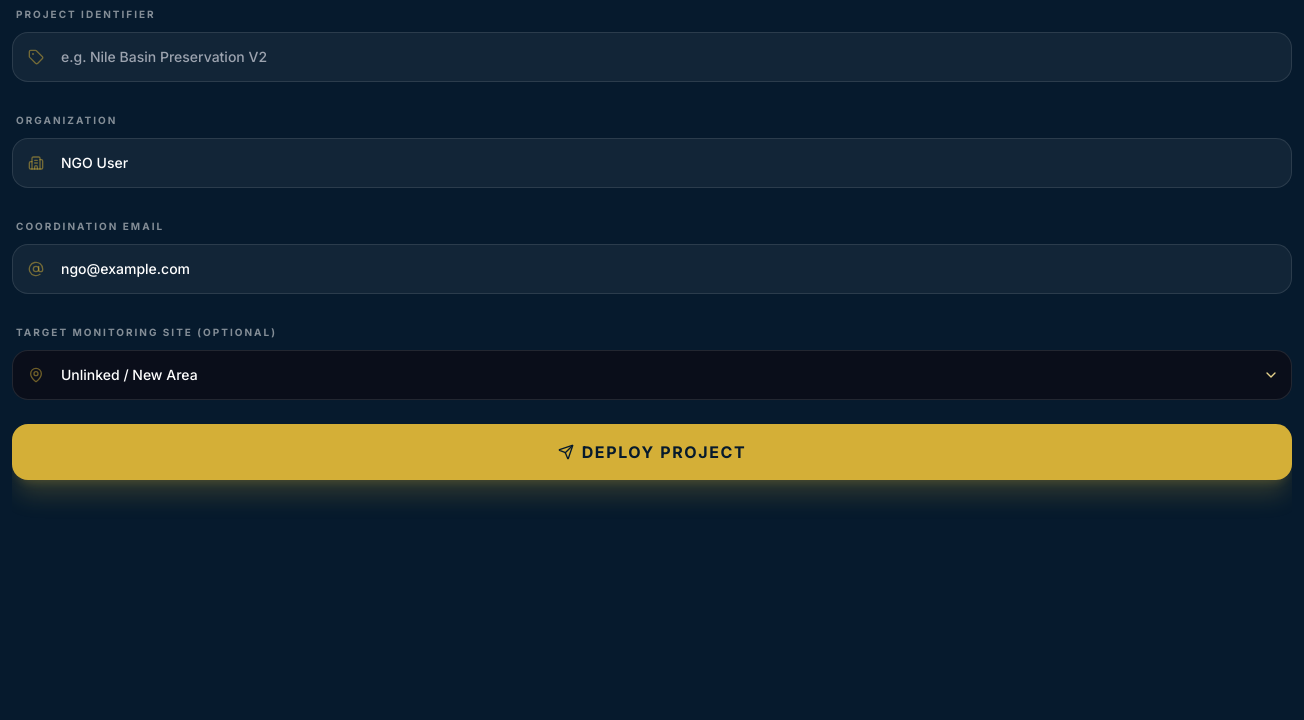
NGO Portal Components › SubmitCollaborationForm › shows validation errors and submits successfully
Type "New Test Project" into the field with placeholder "e.g. Nile Basin Preservation V2".
click(652, 57); type("New Test Project")  # box [12,32,1292,82]
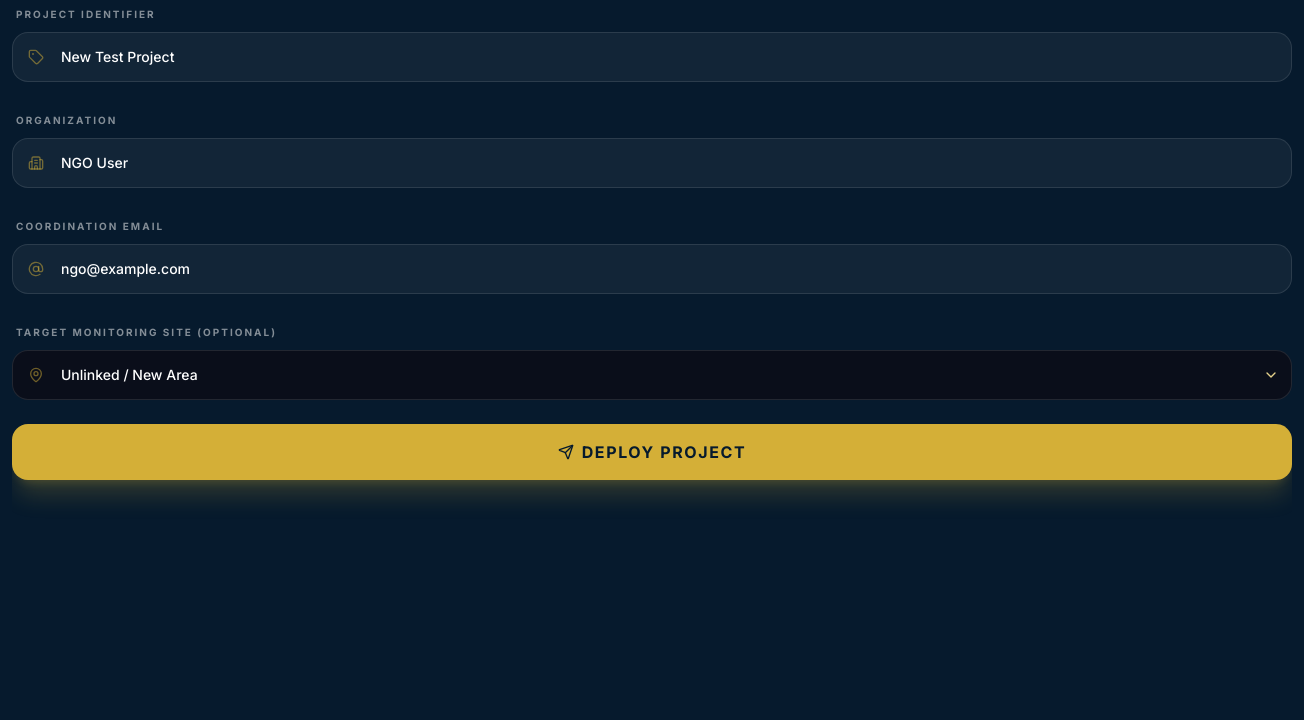
Click the button "Deploy Project".
click(652, 452)  # box [12,424,1292,480]
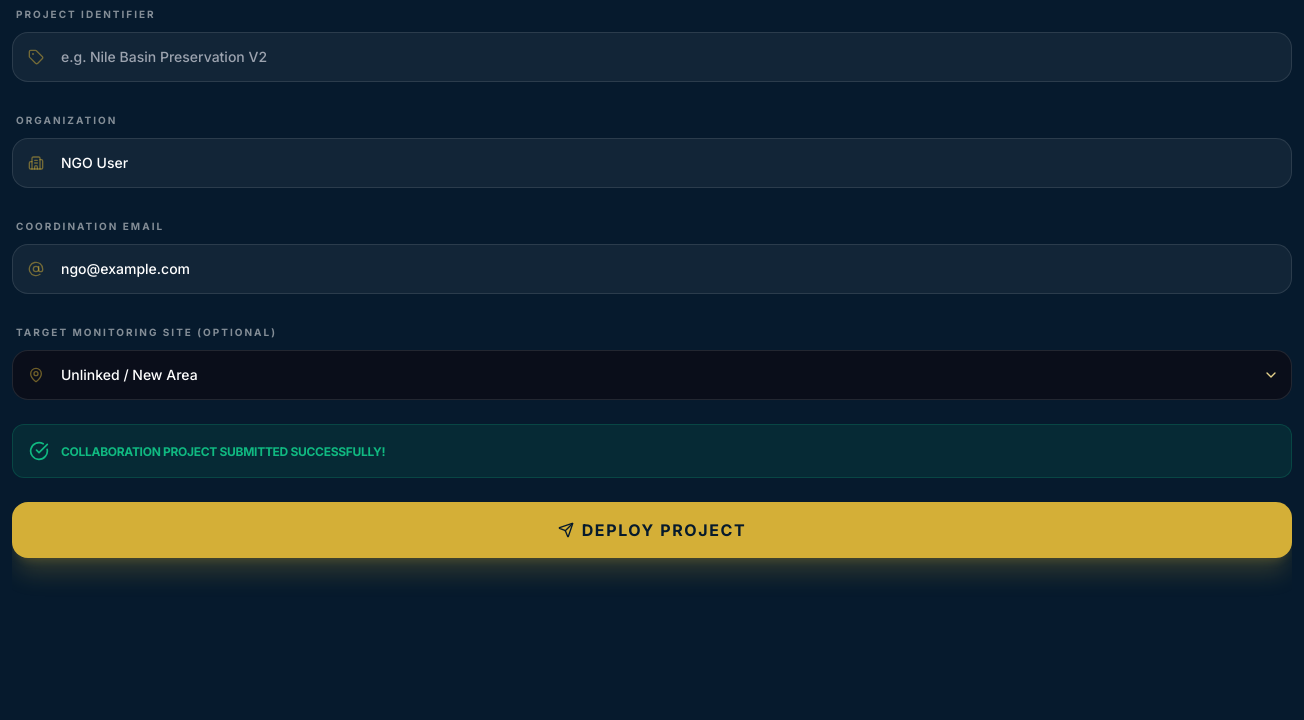
Check: the text "Collaboration project submitted successfully!" is shown, box [61,444,385,458]
